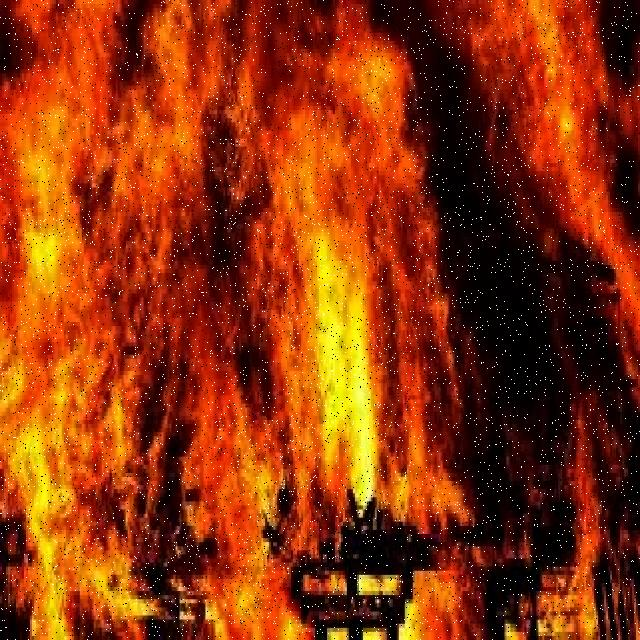fire: (8, 13, 582, 592)
